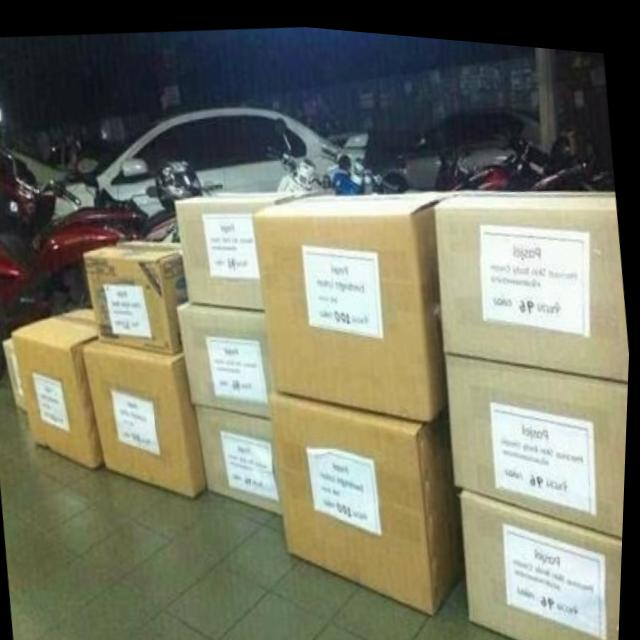box: (253, 180, 456, 414), (272, 387, 467, 606), (436, 176, 631, 369), (444, 344, 631, 526), (462, 479, 626, 640), (84, 337, 211, 493), (13, 304, 108, 470), (174, 187, 305, 306), (83, 236, 190, 348), (178, 294, 276, 414), (196, 401, 287, 511), (4, 334, 29, 412)
